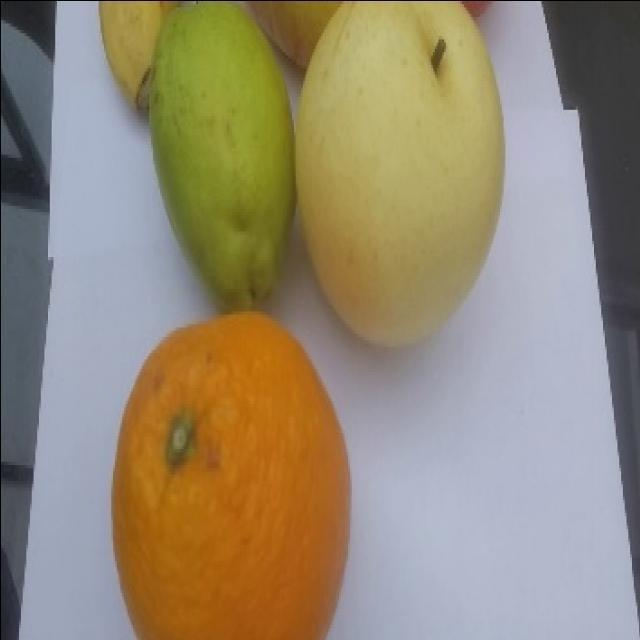Orange: (110, 309, 351, 638)
